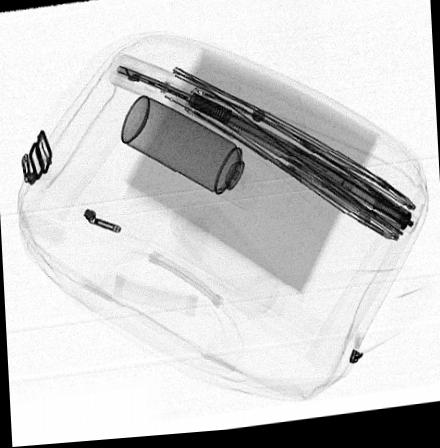Sprayer: (120, 97, 273, 213)
